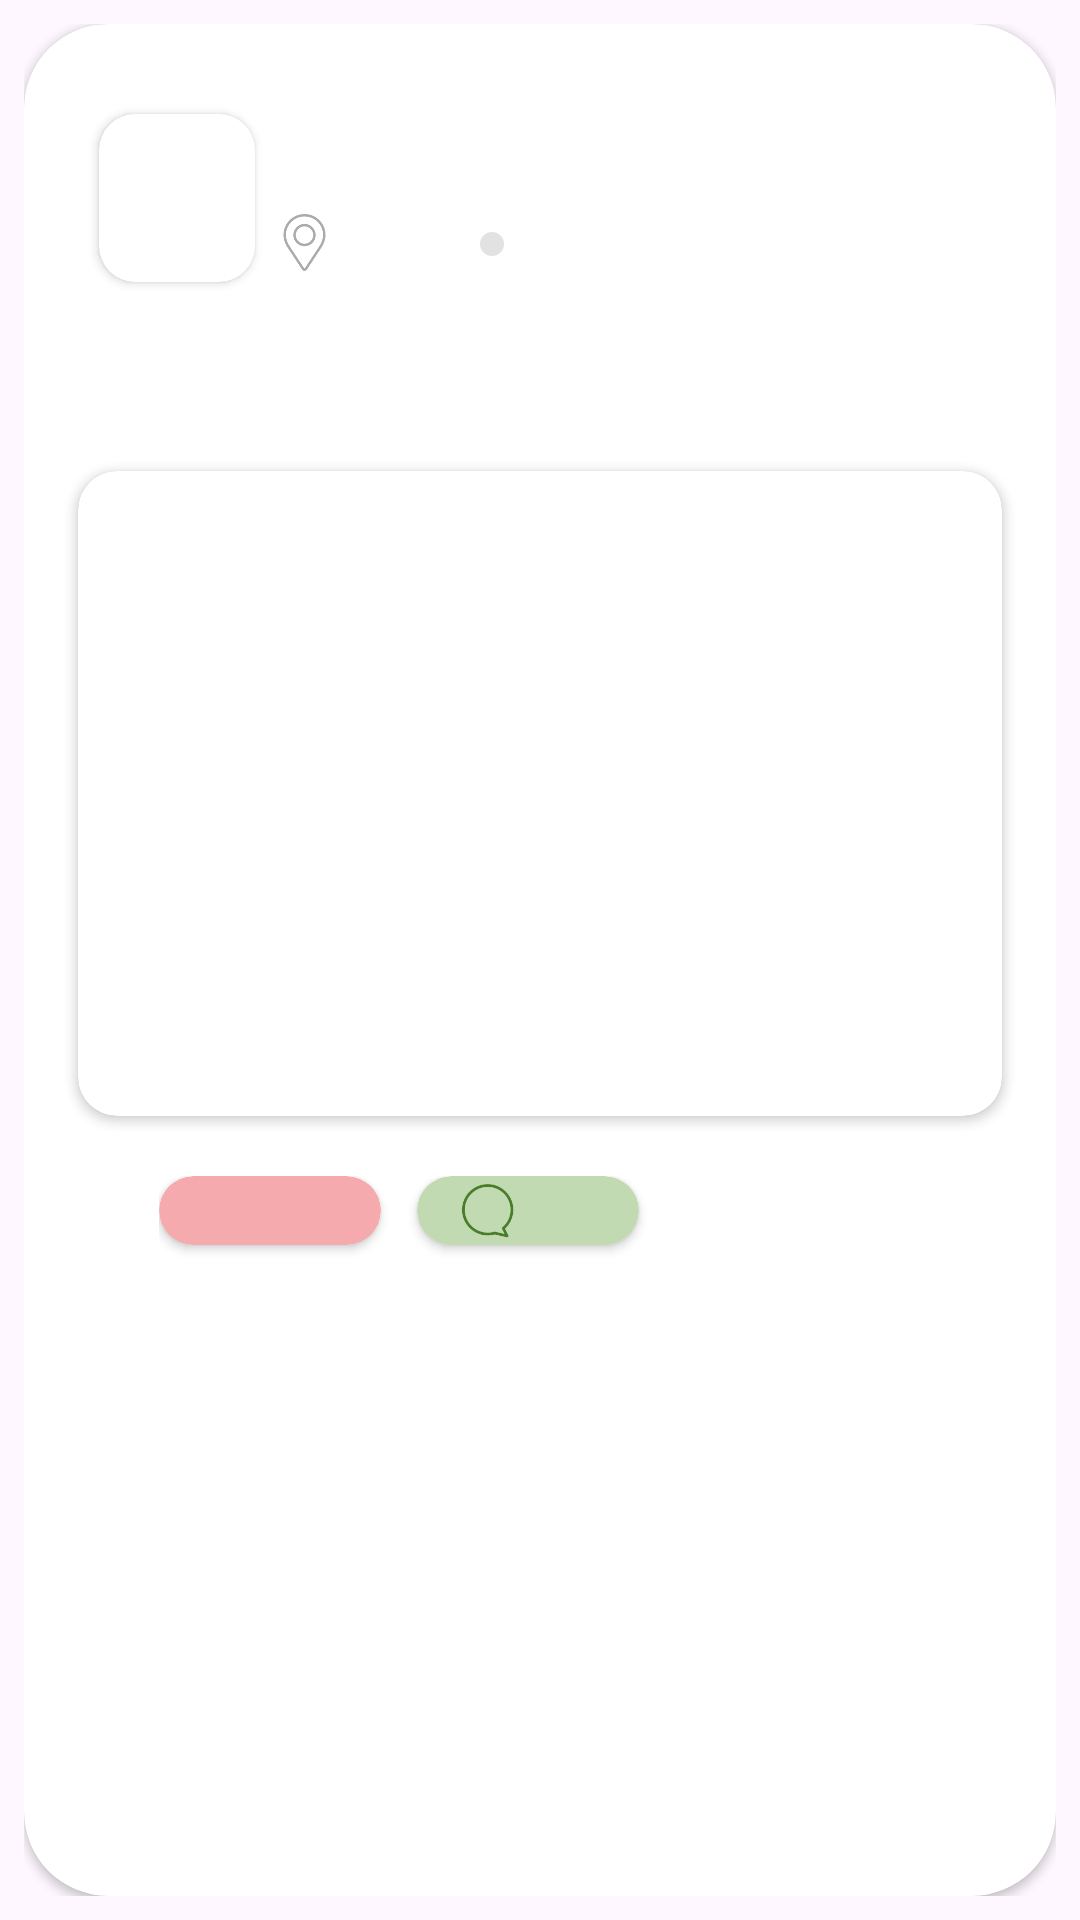

Icons on this 1080 × 1920 Android screen, each with its box as (x1, y1, x2, y2):
comment: (462, 1184, 514, 1237)
pin: (283, 214, 326, 271)
